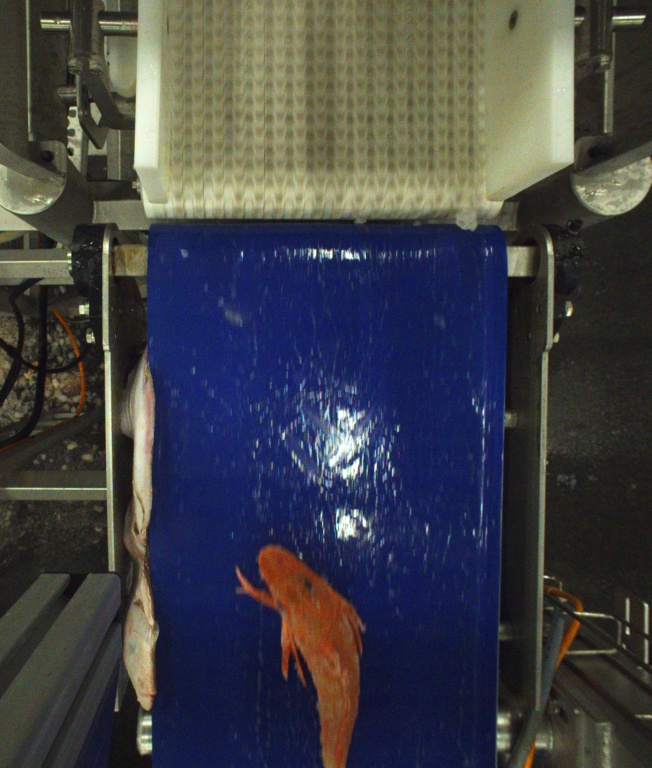GUU: (238, 546, 363, 768)
